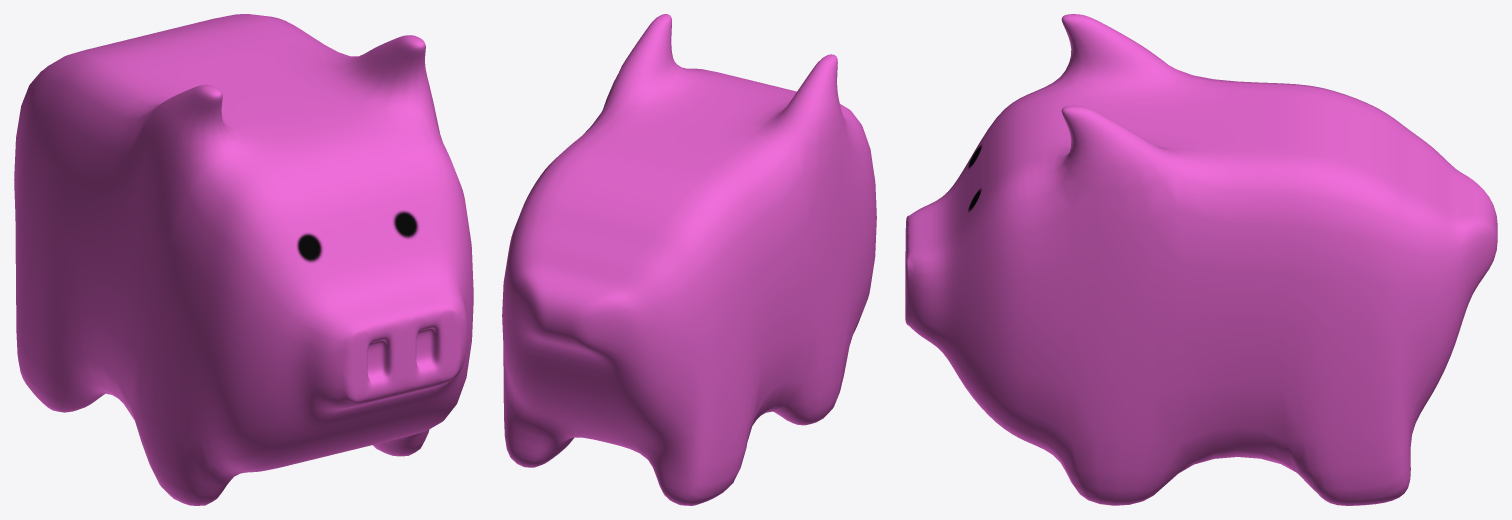
File: piggy.fbx
3 views of the same model, side by side, from view 1: azimuth 30°, elevation 25°; view 2: azimuth 150°, elevation 25°; view 3: azimuth 270°, elevation 25° (orthographic). The views are drawn at different scales.
Parts seen in each view (by area): view 1: Cube; view 2: Cube; view 3: Cube.
Part boxes in pixels (x1,y1,x2,y2): Cube: [14, 14, 473, 505]; Cube: [502, 14, 876, 505]; Cube: [905, 14, 1497, 505].
Bounding box in the file's own units: 148 × 226 × 306.
